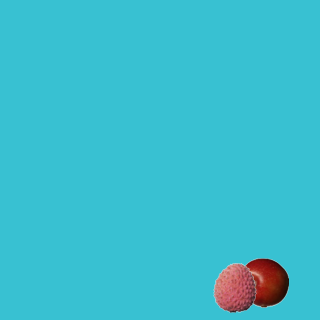Apple Braeburn: (238, 257, 288, 307)
Lychee: (209, 262, 259, 312)
